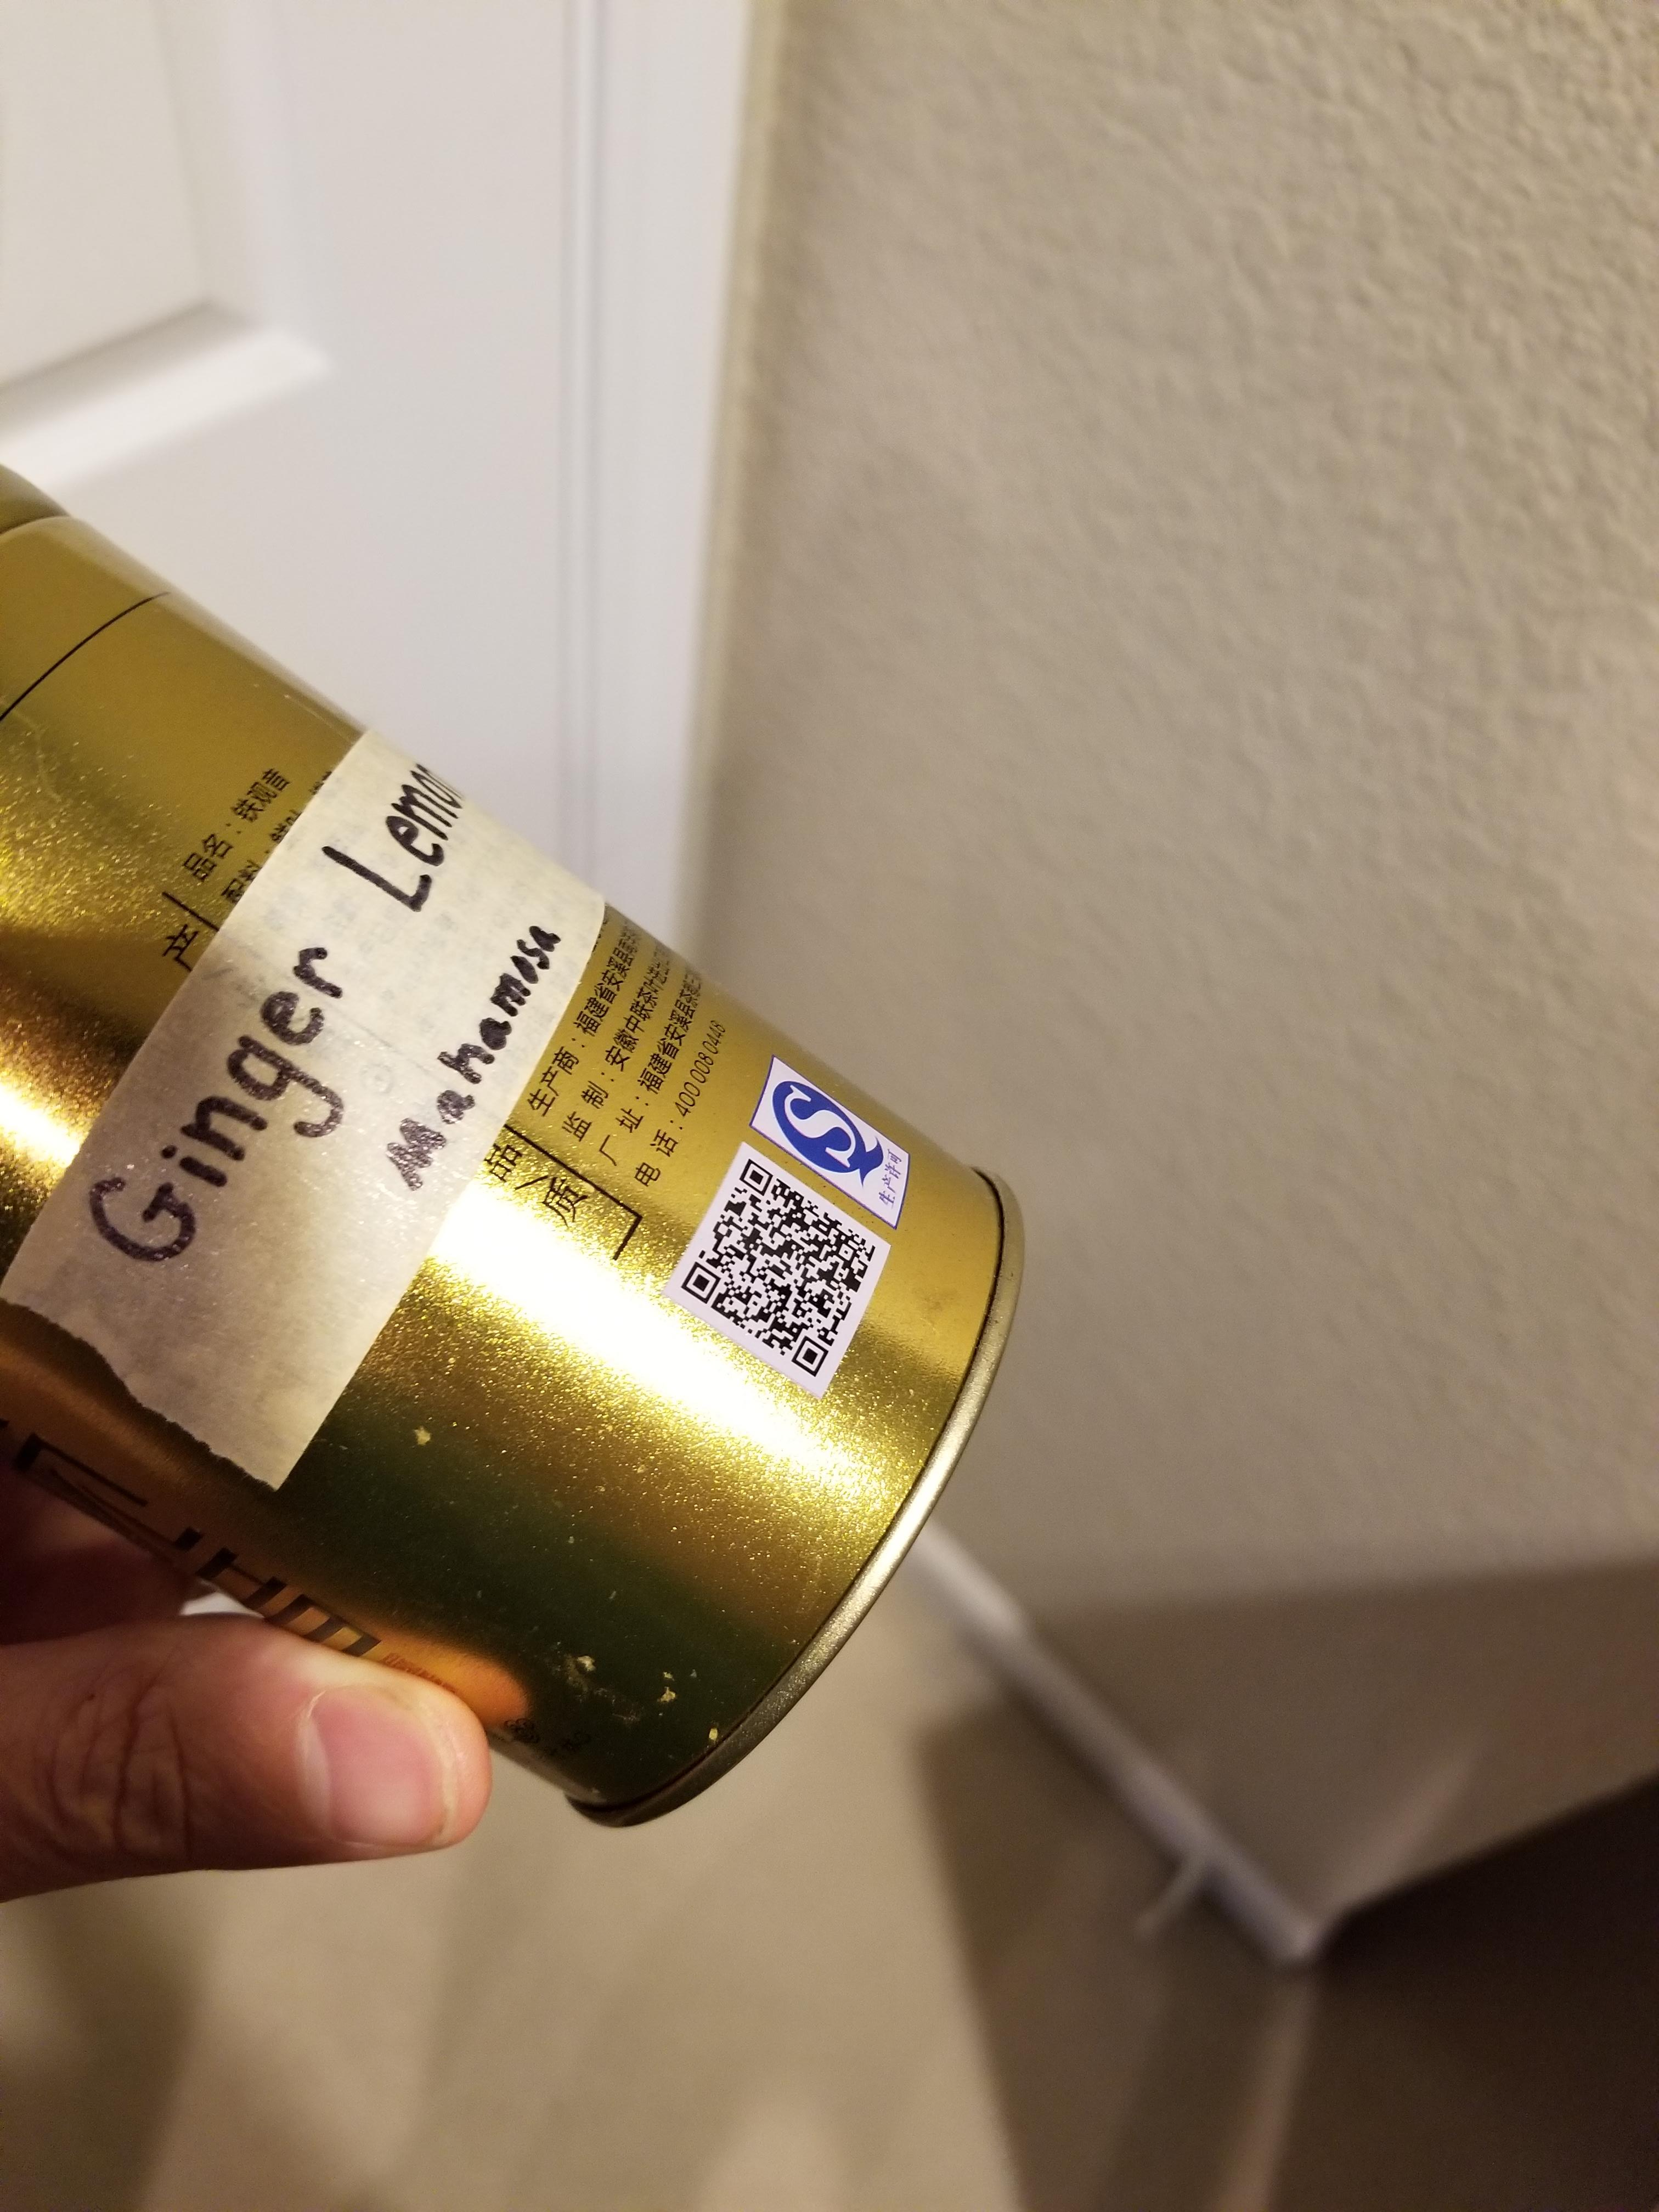QR_CODE: (655, 1127, 903, 1400)
